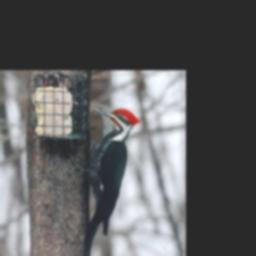Woodpecker: (68, 105, 140, 256)
